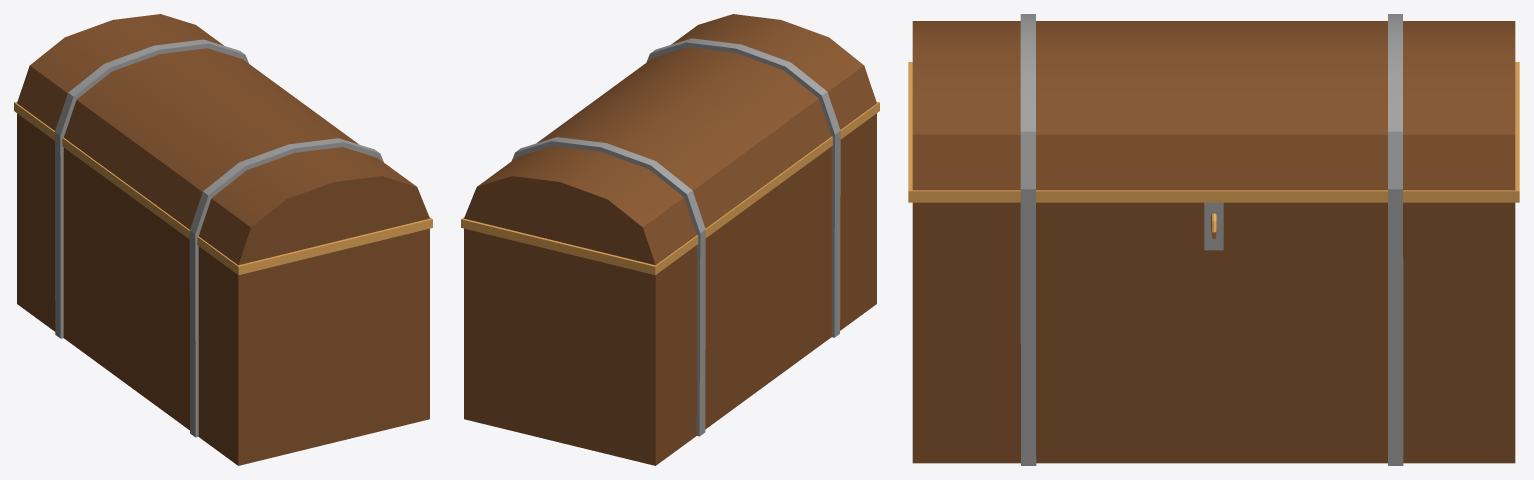
File: chest.fbx
3 renders of one model, left to right at view 1: azimuth 30°, elevation 25°; view 2: azimuth 150°, elevation 25°; view 3: azimuth 270°, elevation 25°, orthographic. The views are drawn at different scales.
Parts seen in each view (by area): view 1: pCube12; view 2: pCube12; view 3: pCube12.
Boxes of the visible parts, <box> form: pCube12: <box>14,14,432,465</box>; pCube12: <box>461,14,879,465</box>; pCube12: <box>908,14,1519,465</box>.
Size of the model in its own units: 108 by 132 by 203.
